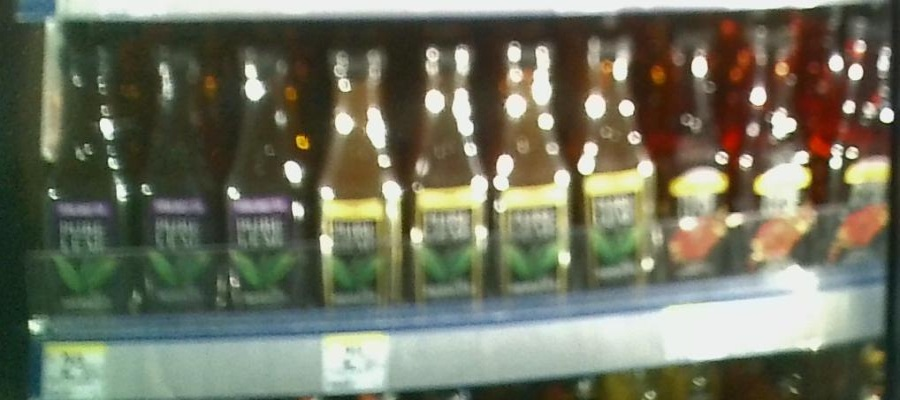bottle: (41, 46, 133, 321), (405, 34, 490, 327), (313, 45, 403, 319), (221, 43, 309, 312), (492, 35, 574, 315), (816, 12, 900, 278), (577, 34, 660, 303), (138, 44, 217, 313), (736, 16, 812, 287), (662, 29, 732, 300)
